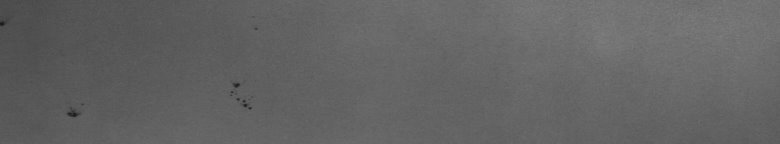fi: (64, 100, 84, 124)
